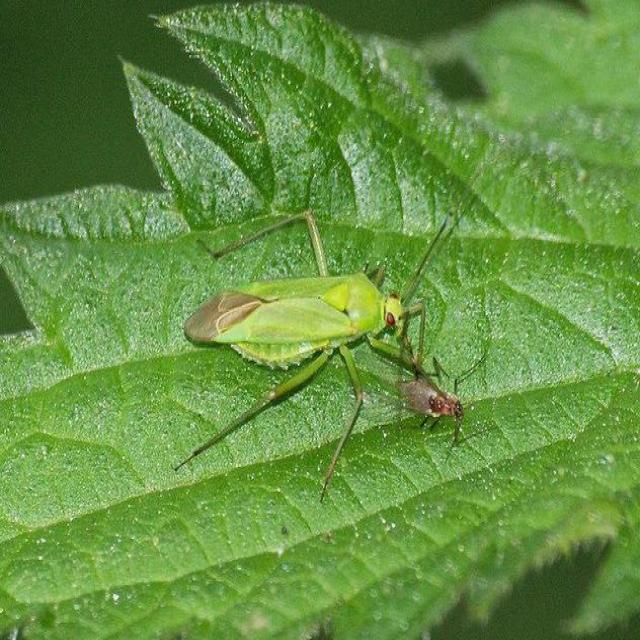Miridae-Adult-: (180, 143, 522, 521)
